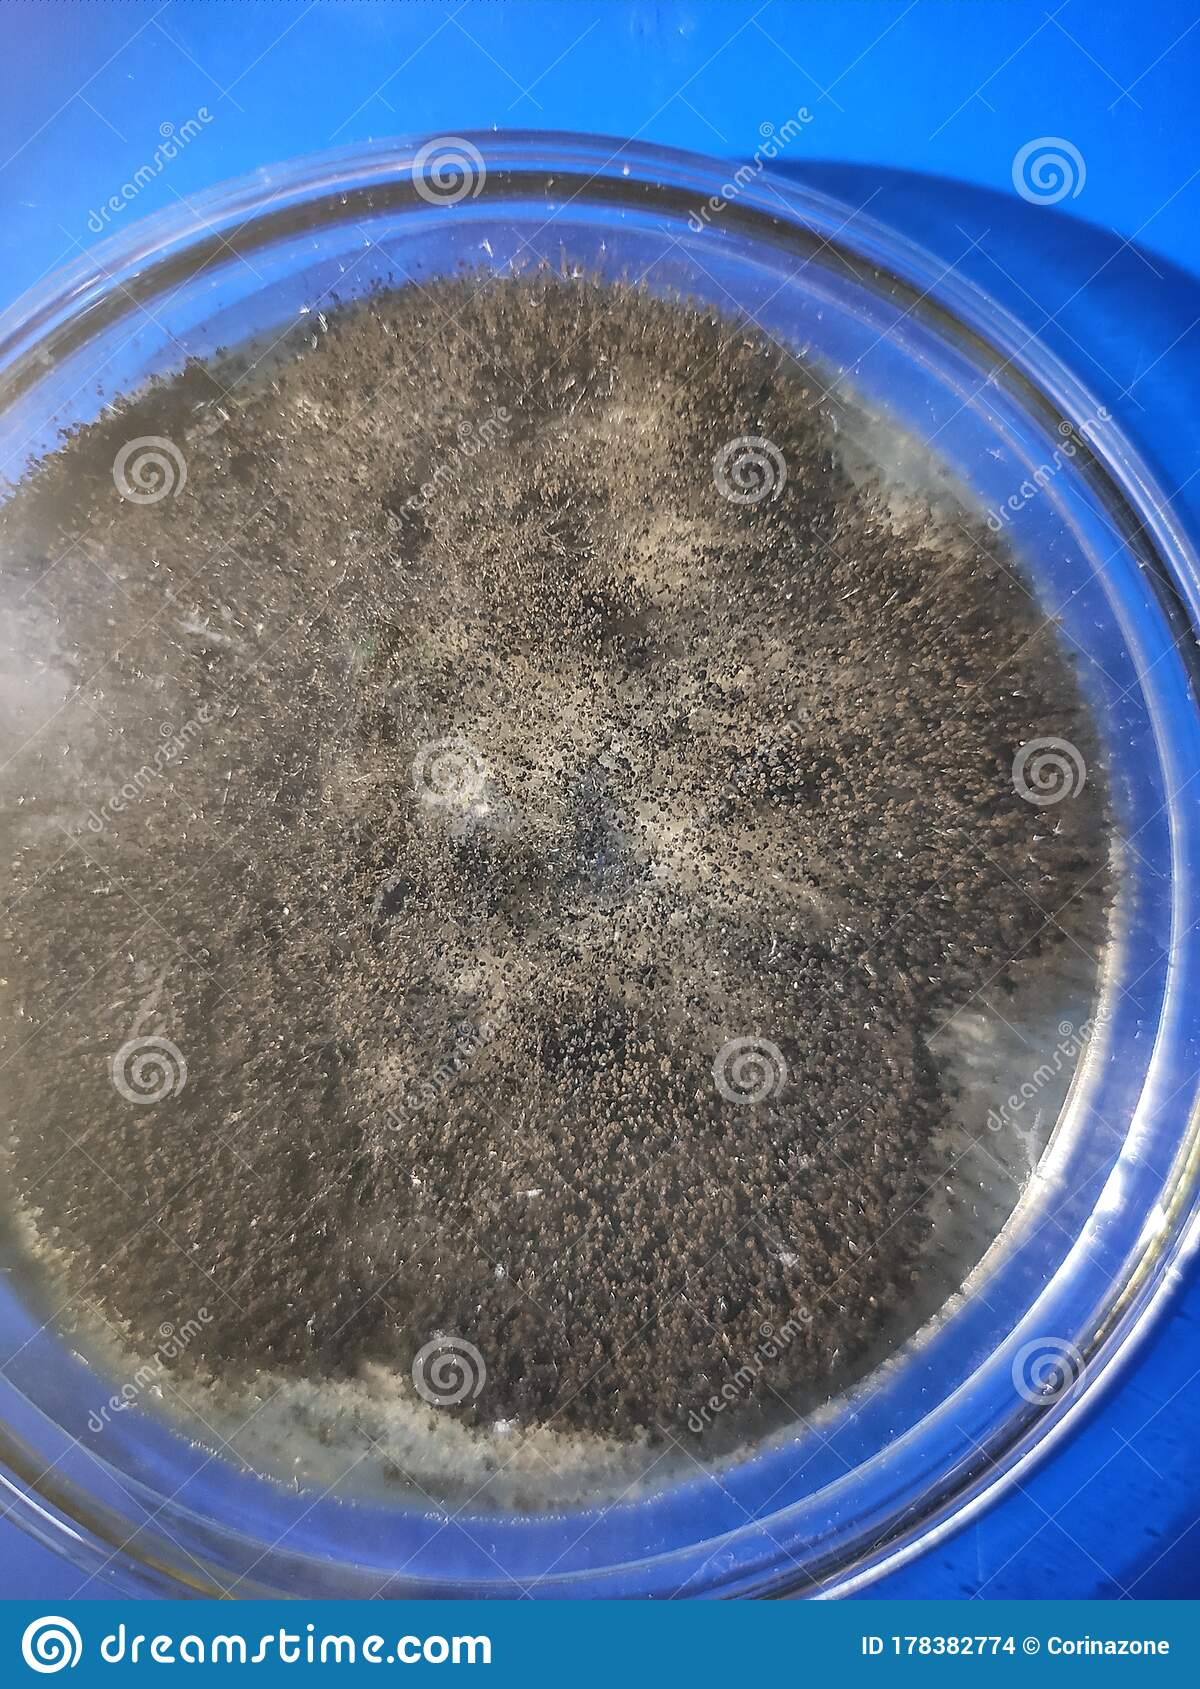Aspergillus: (21, 426, 918, 1473)
